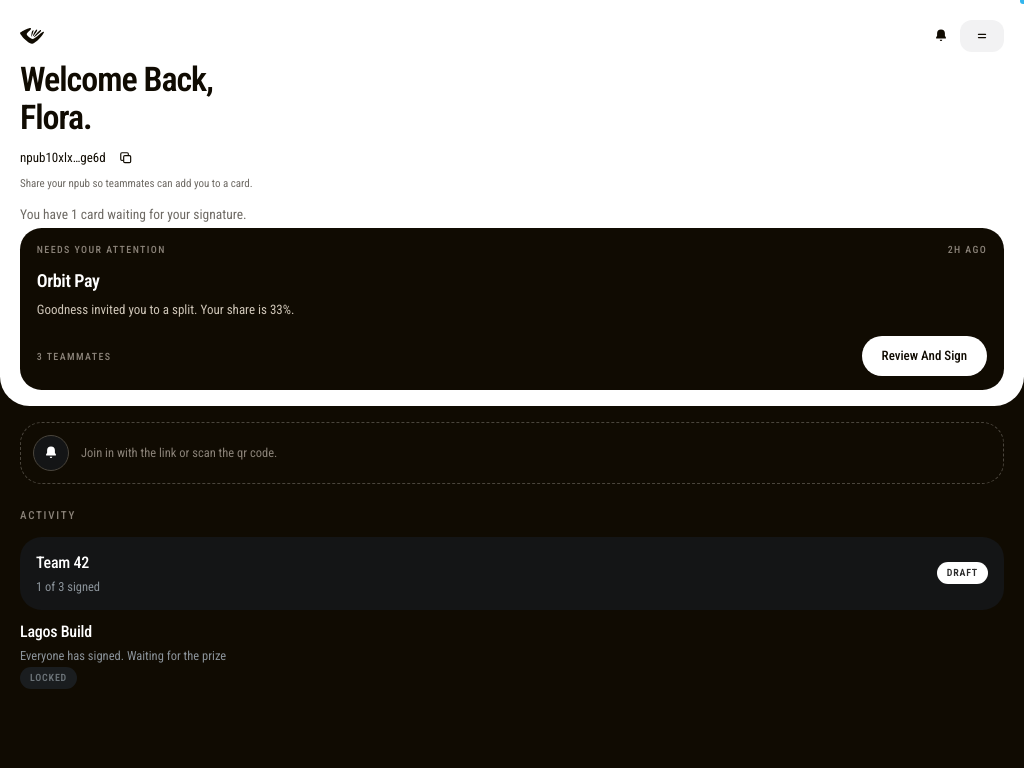
home npub › selects the full npub when the clipboard is blocked
The image size is (1024, 768).
Click the button named "Copy your npub": (126,158) [112,144,140,172]
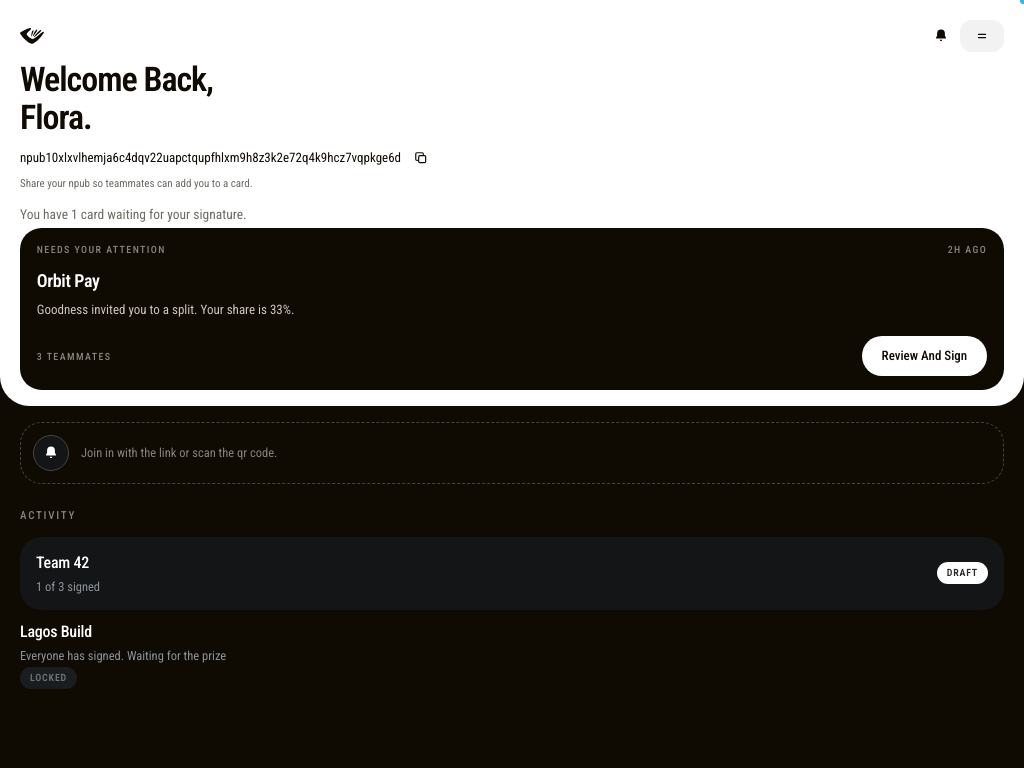
expect the text "npub10xlxvlhemja6c4dqv22uapctqupfhlxm9h8z3k2e72q4k9hcz7vqpkge6d" is shown: met, box [20,148,401,168]
